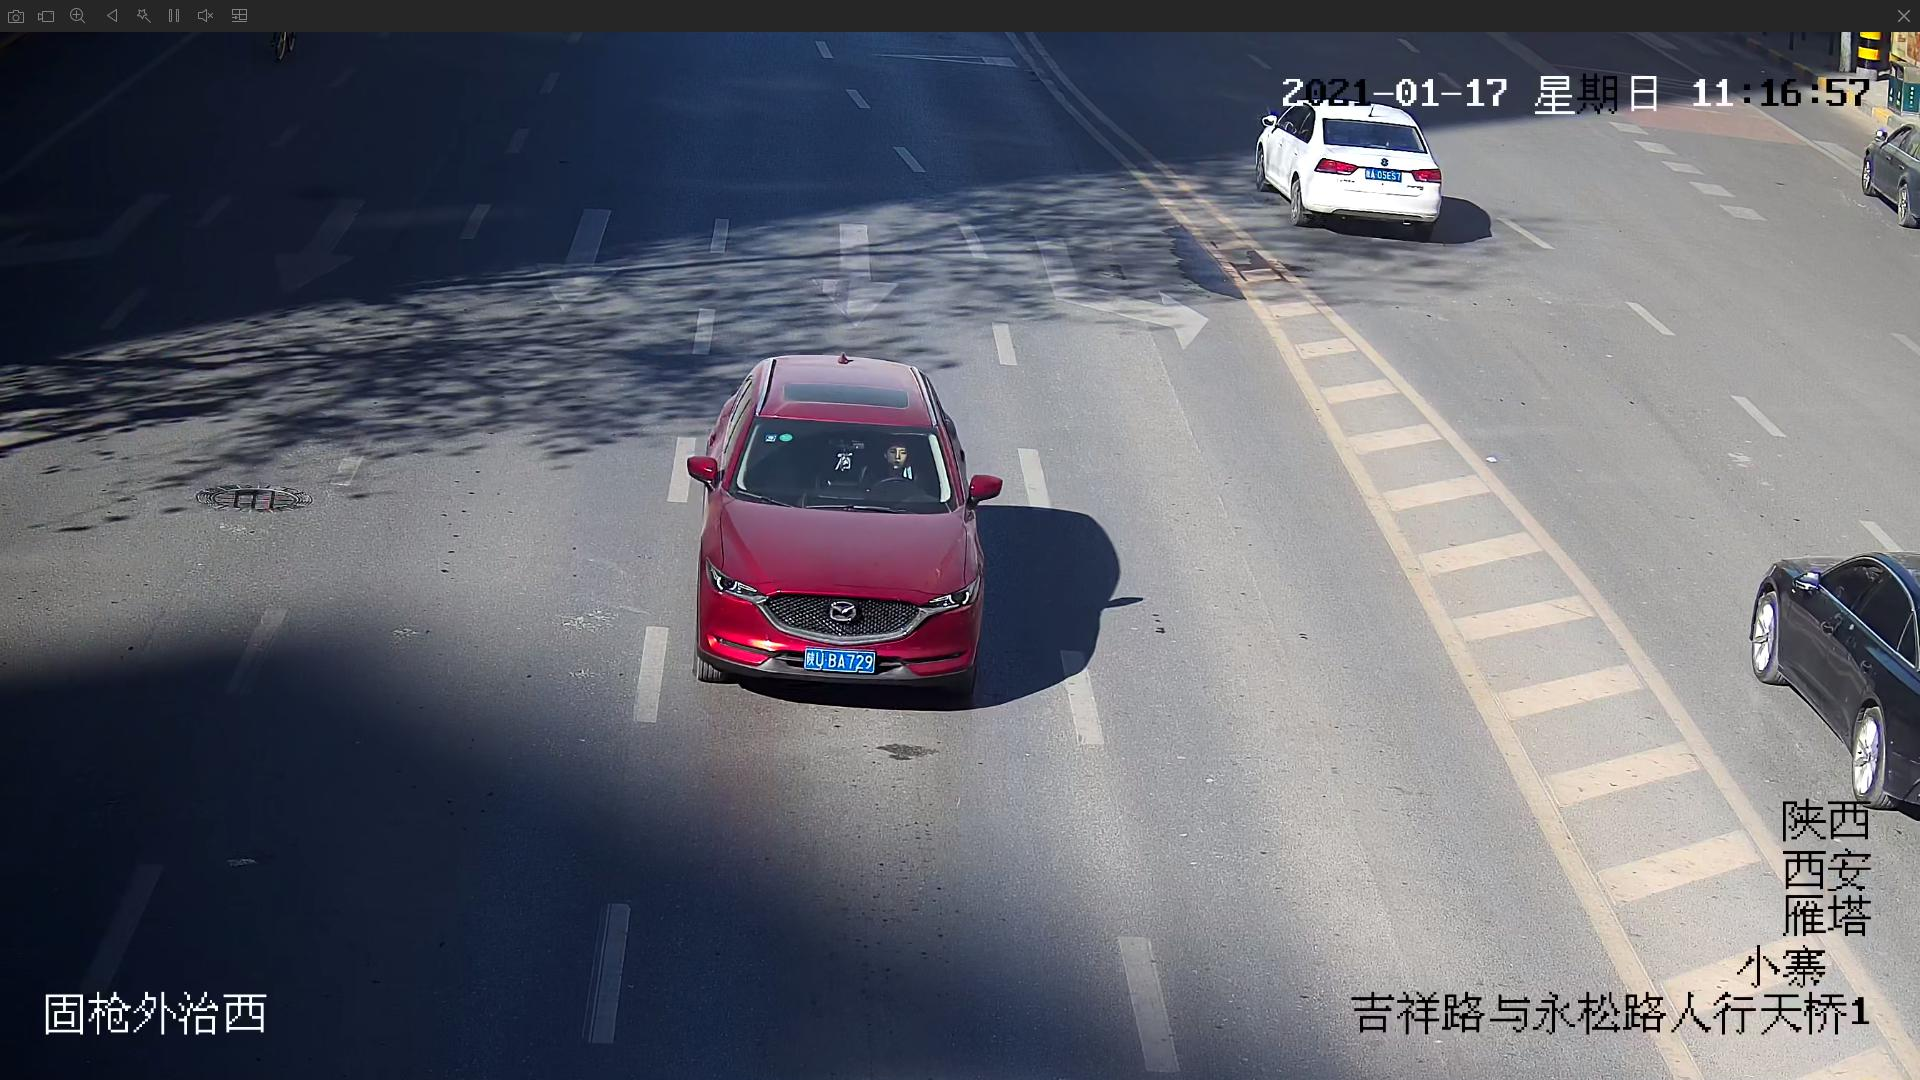dark-red: (680, 349, 1001, 698)
